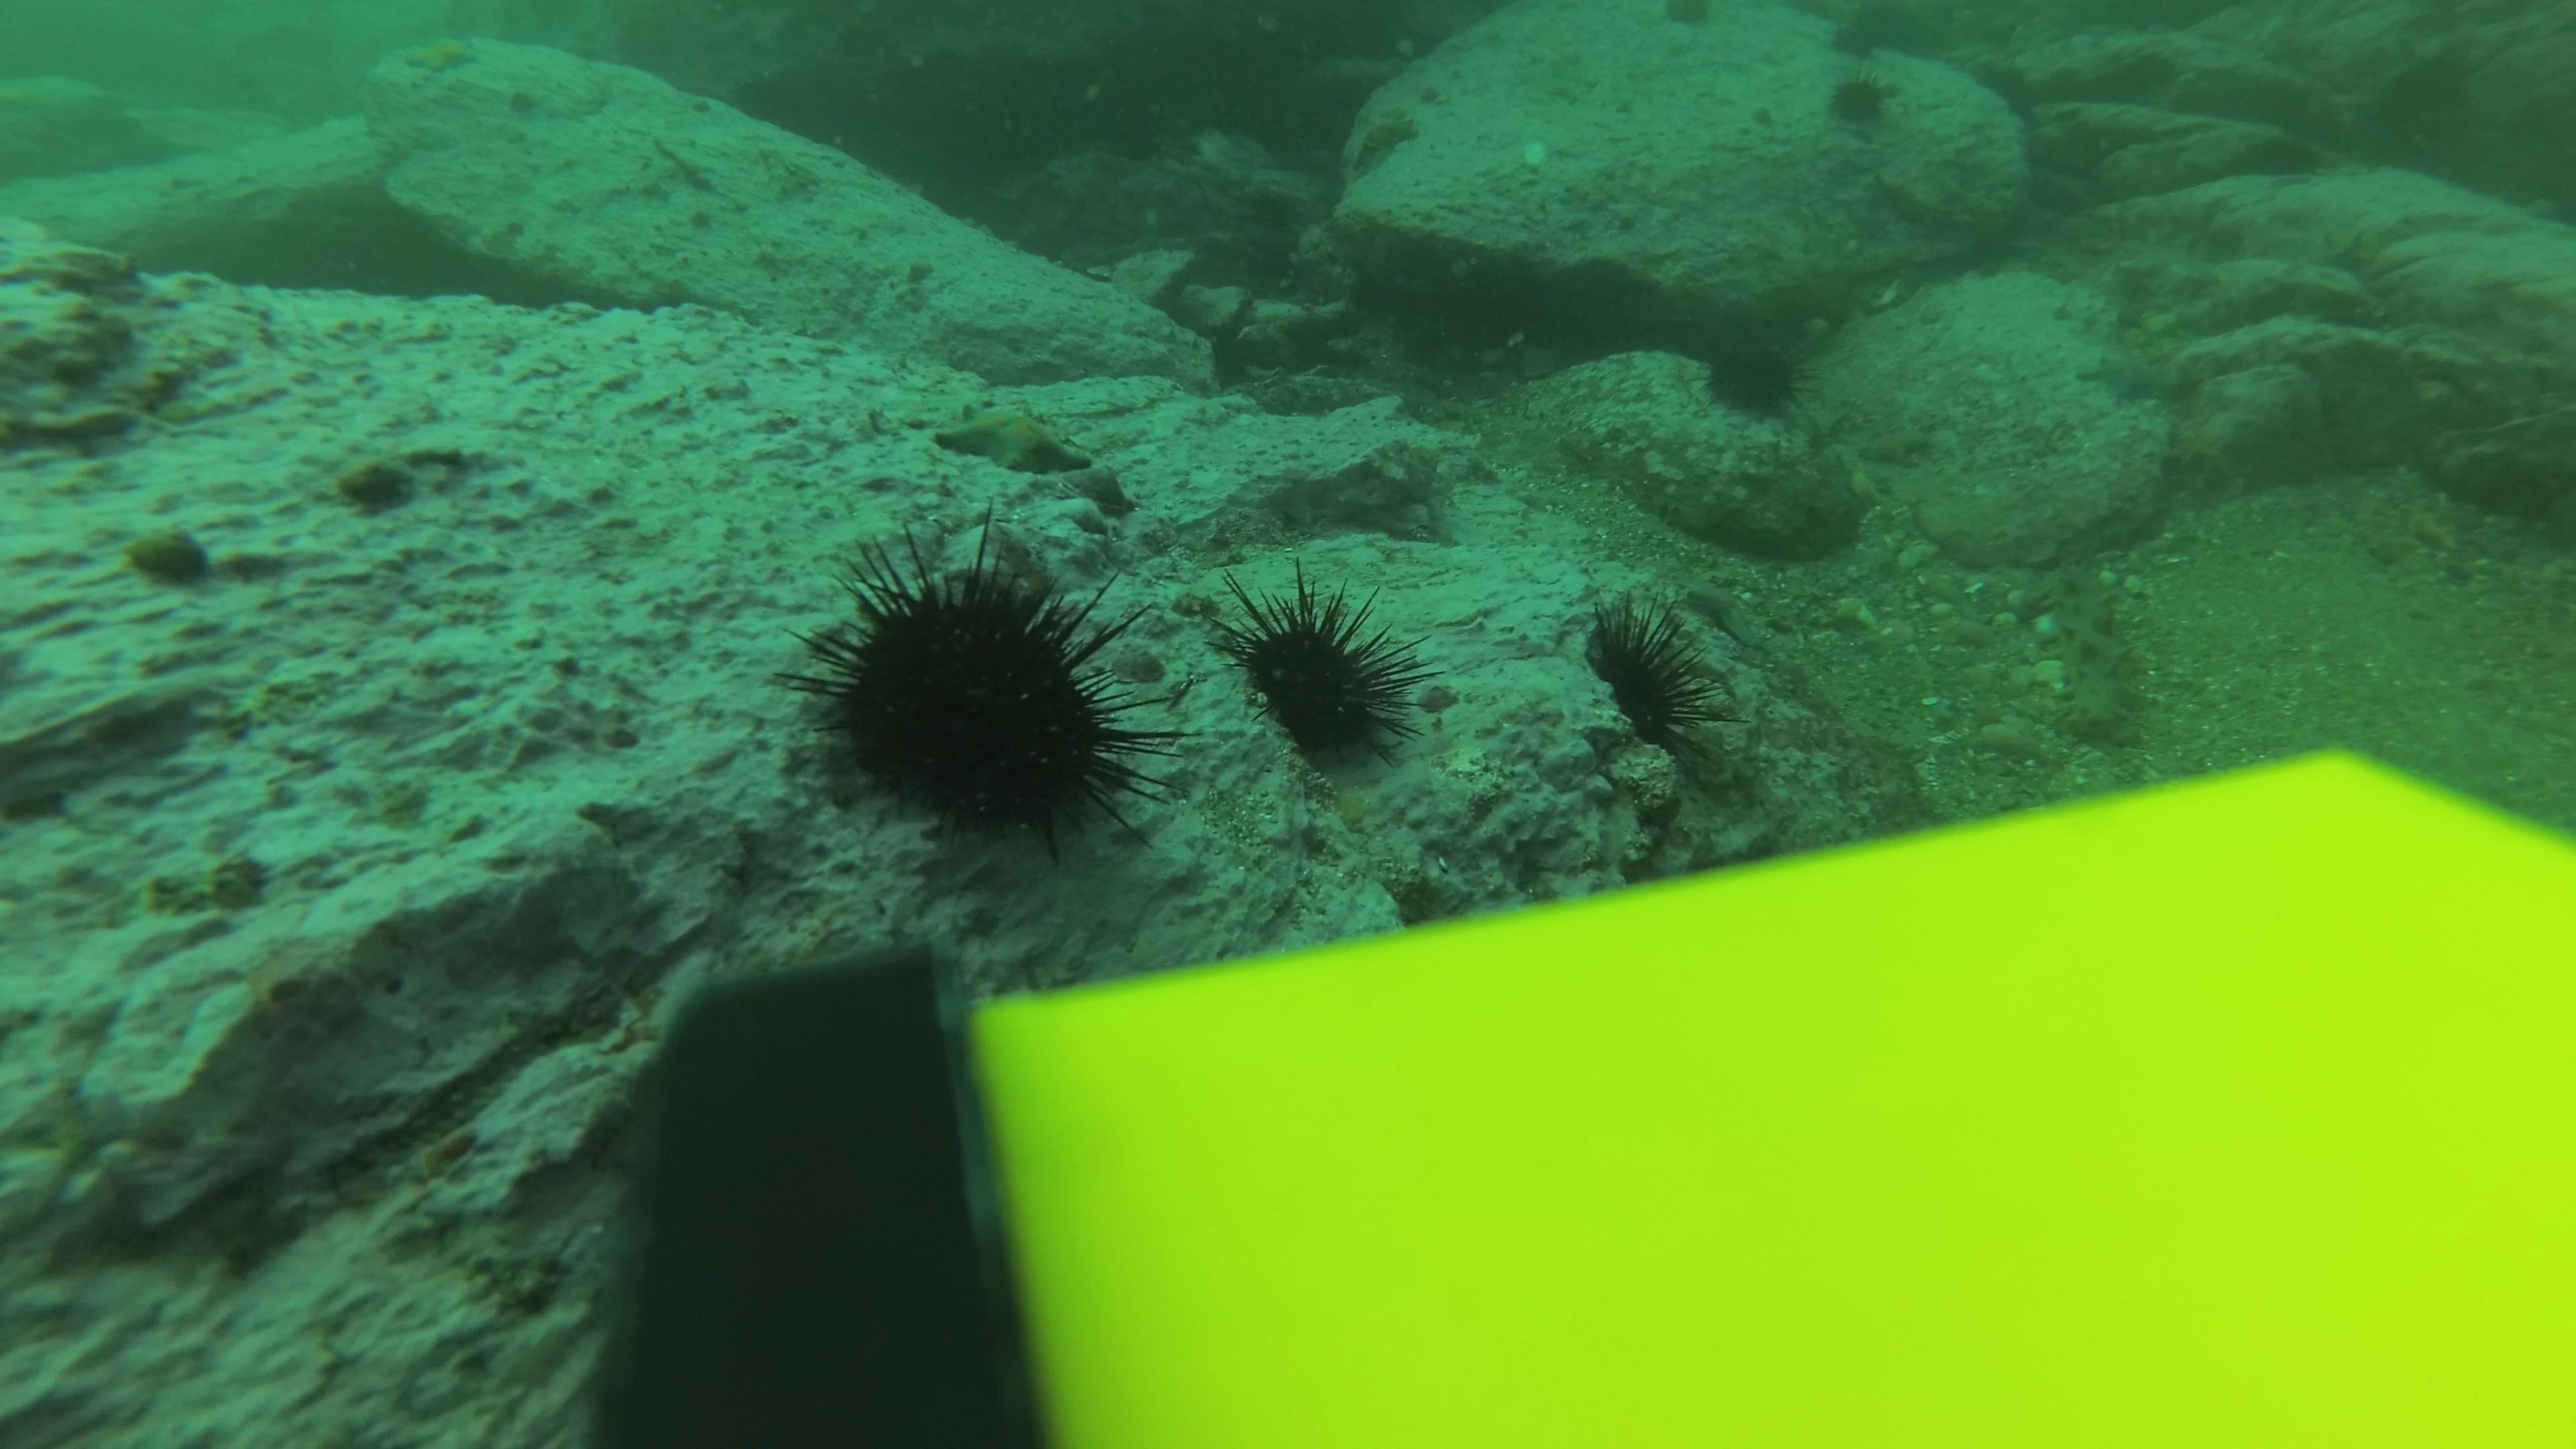urchin: (791, 552, 1175, 828), (1207, 552, 1412, 787), (1594, 589, 1760, 740), (1702, 308, 1813, 435), (1829, 64, 1897, 127)
